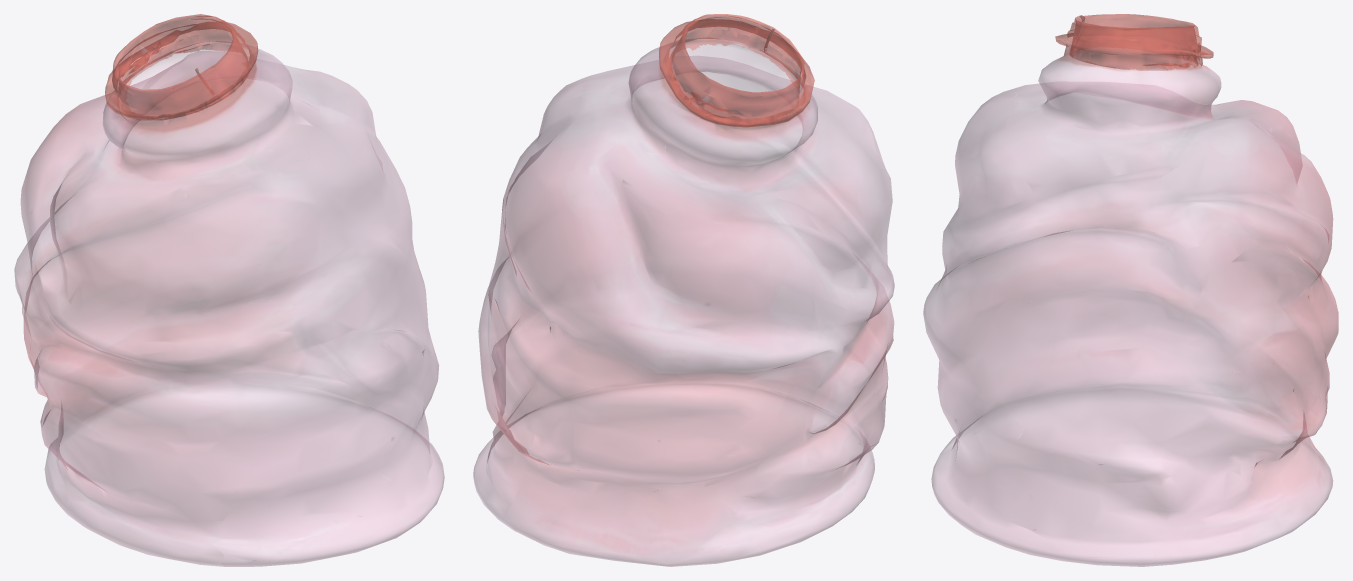
Rendered from 07_13_nj_et_pnk_l_trs-opt-v47.glb.
The picture shows the model from 3 angles, left to right: view 1: azimuth 30°, elevation 25°; view 2: azimuth 150°, elevation 25°; view 3: azimuth 270°, elevation 25°; orthographic projection. The views are drawn at different scales.
Parts seen in each view (by area): view 1: pnk.003; view 2: pnk.003; view 3: pnk.003.
Part boxes in pixels (x1,y1,x2,y2): pnk.003: (14, 14, 444, 566); pnk.003: (473, 14, 894, 566); pnk.003: (923, 14, 1338, 566).
Size of the model in its own units: 0.2439 by 0.3 by 0.2439.
1 material, 1 textured.
